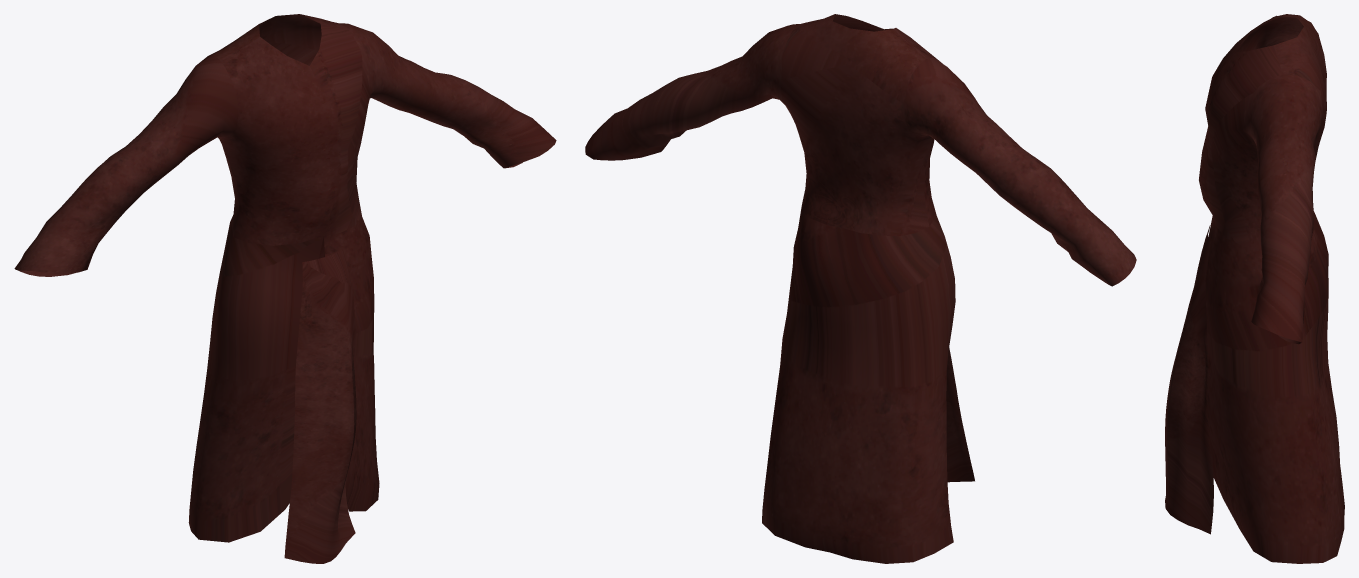
File: clo_rivendell_torso_light_light_tier1.fbx
3 views of the same model, side by side, from view 1: azimuth 30°, elevation 25°; view 2: azimuth 150°, elevation 25°; view 3: azimuth 270°, elevation 25° (orthographic).
Parts seen in each view (by area): view 1: clo_rivendell_torso_light_light_tier1; view 2: clo_rivendell_torso_light_light_tier1; view 3: clo_rivendell_torso_light_light_tier1.
Part boxes in pixels (<box>): clo_rivendell_torso_light_light_tier1: <box>14,14,556,563</box>; clo_rivendell_torso_light_light_tier1: <box>585,14,1136,563</box>; clo_rivendell_torso_light_light_tier1: <box>1165,14,1344,563</box>.
Bounding box in the file's own units: 1.52 × 0.4435 × 1.37.
Materials: 1 (1 with a texture image).
